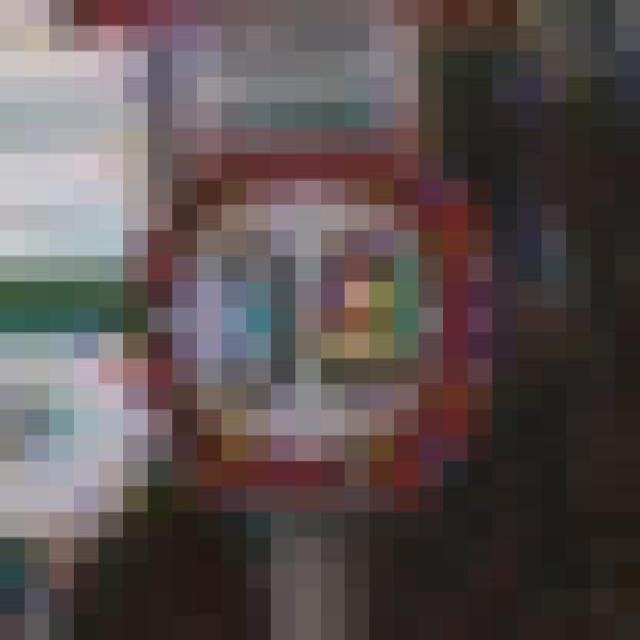Speed Limit 30 KMPh: (50, 128, 492, 538)
